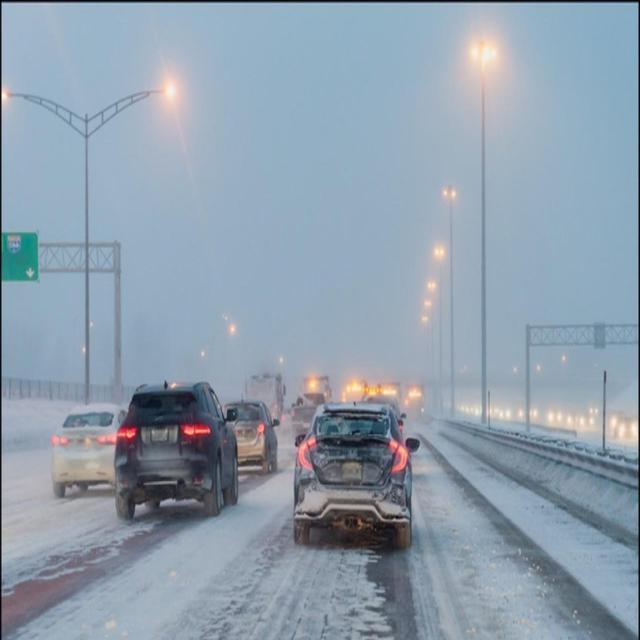Car: (292, 402, 420, 548), (114, 379, 241, 522), (49, 402, 130, 496), (221, 398, 282, 475)
Truck: (244, 373, 288, 422)
